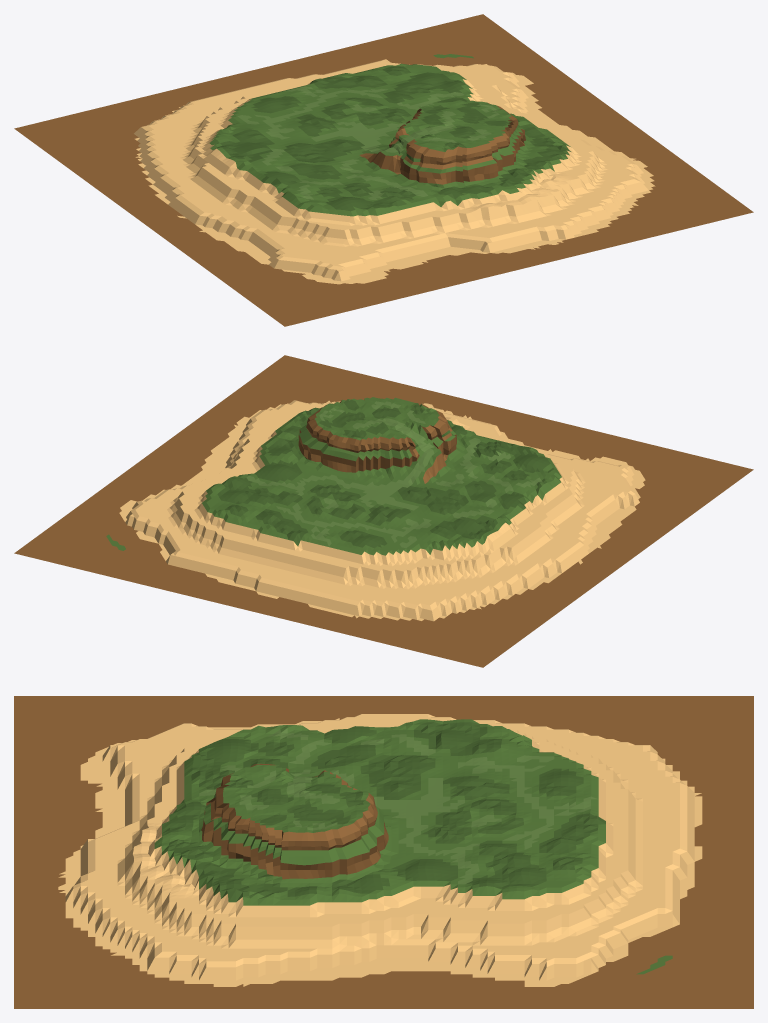
File: FirstIsland 1.fbx
3 renders of one model, top to bottom at view 1: azimuth 30°, elevation 25°; view 2: azimuth 150°, elevation 25°; view 3: azimuth 270°, elevation 25°, orthographic. The views are drawn at different scales.
Parts seen in each view (by area): view 1: Plane; view 2: Plane; view 3: Plane.
Boxes of the visible parts, x1,y1,x2,y2 form: Plane: [14, 14, 753, 326]; Plane: [14, 355, 753, 667]; Plane: [14, 696, 753, 1008].
Size of the model in its own units: 20000 by 2480 by 20000.
